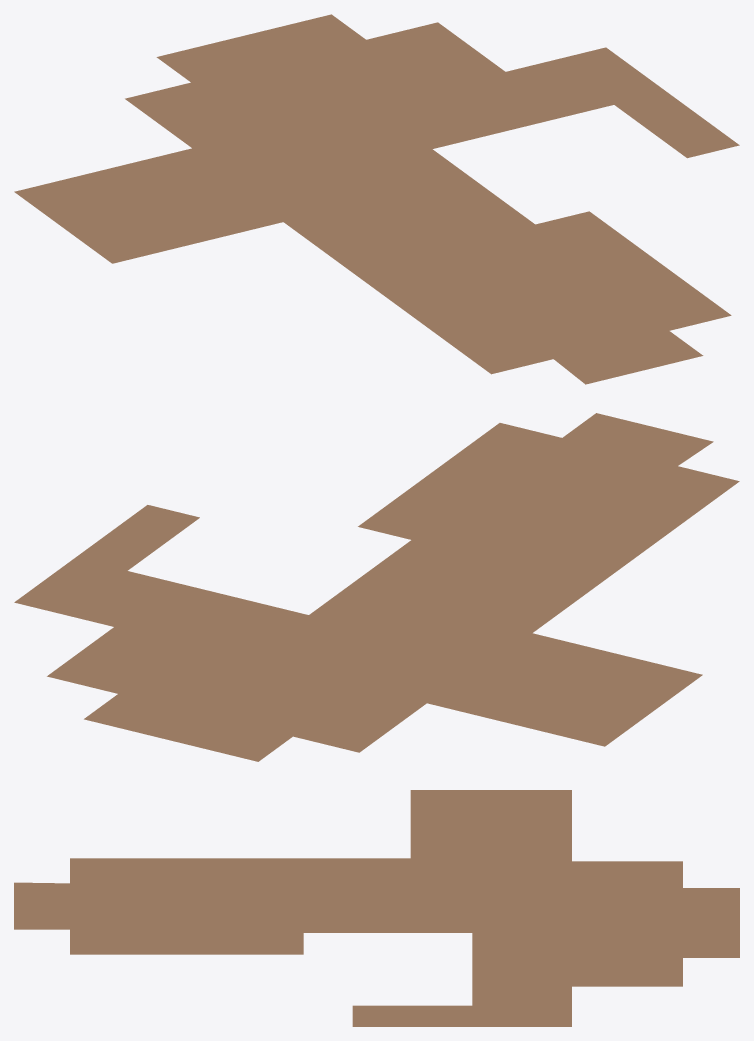
File: N06_Piso_SalaComedor_new.fbx
3 views of the same model, one above another, from view 1: azimuth 30°, elevation 25°; view 2: azimuth 150°, elevation 25°; view 3: azimuth 270°, elevation 25° (orthographic). The views are drawn at different scales.
Visible parts, largest first — view 1: N06_Piso_SalaComedor; view 2: N06_Piso_SalaComedor; view 3: N06_Piso_SalaComedor.
Part boxes in pixels (x1,y1,x2,y2): N06_Piso_SalaComedor: (14, 14, 739, 384); N06_Piso_SalaComedor: (14, 413, 739, 761); N06_Piso_SalaComedor: (14, 790, 739, 1026).
Size of the model in its own units: 984 by 0.000208 by 1275.
Materials: 1 (1 with a texture image).
